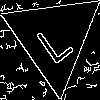L: (29, 12, 75, 66)
